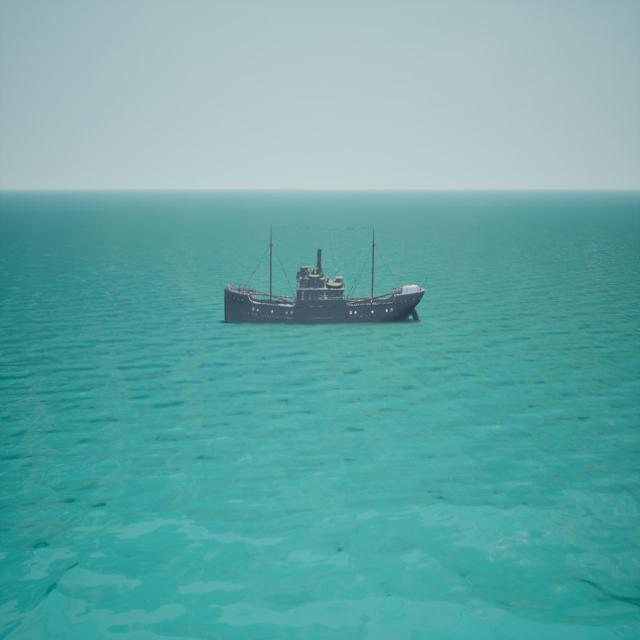fishing ship: (226, 227, 425, 324)
